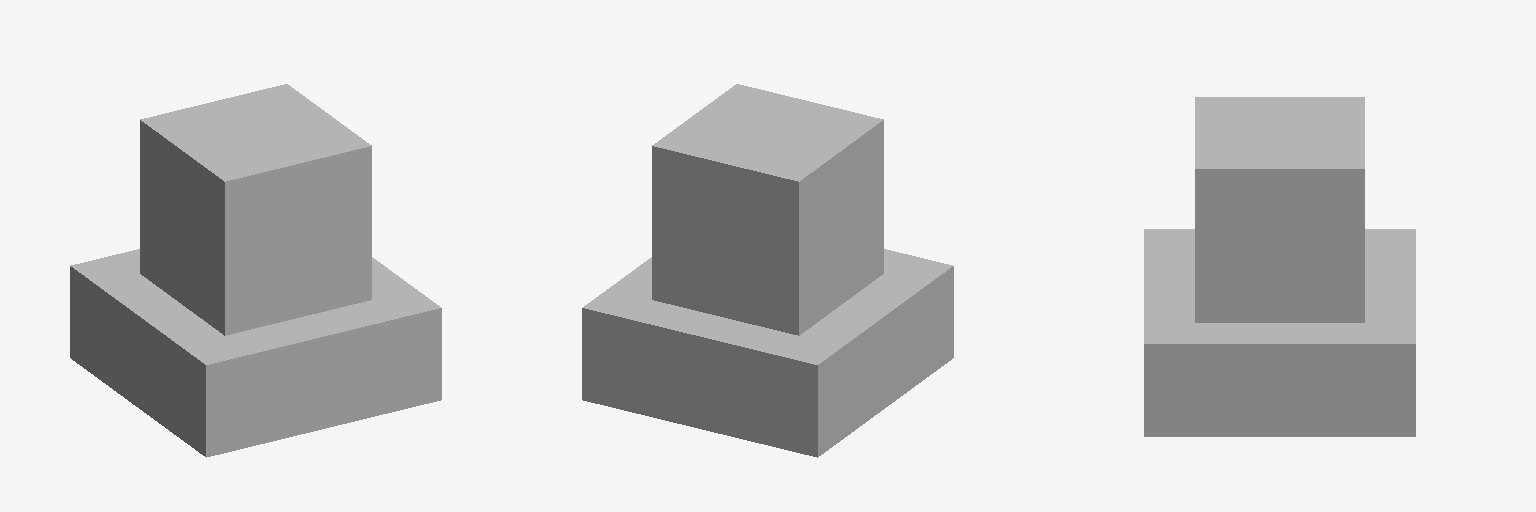
The model's file is semilog_with_log.obj.
3 renders of one model, left to right at view 1: azimuth 30°, elevation 25°; view 2: azimuth 150°, elevation 25°; view 3: azimuth 270°, elevation 25°, orthographic.
Parts seen in each view (by area): view 1: cube; view 2: cube; view 3: cube.
Boxes of the visible parts, x1,y1,x2,y2 form: cube: [70, 84, 441, 457]; cube: [582, 84, 953, 457]; cube: [1144, 97, 1415, 436].
Bounding box in the file's own units: 1 × 1 × 1.